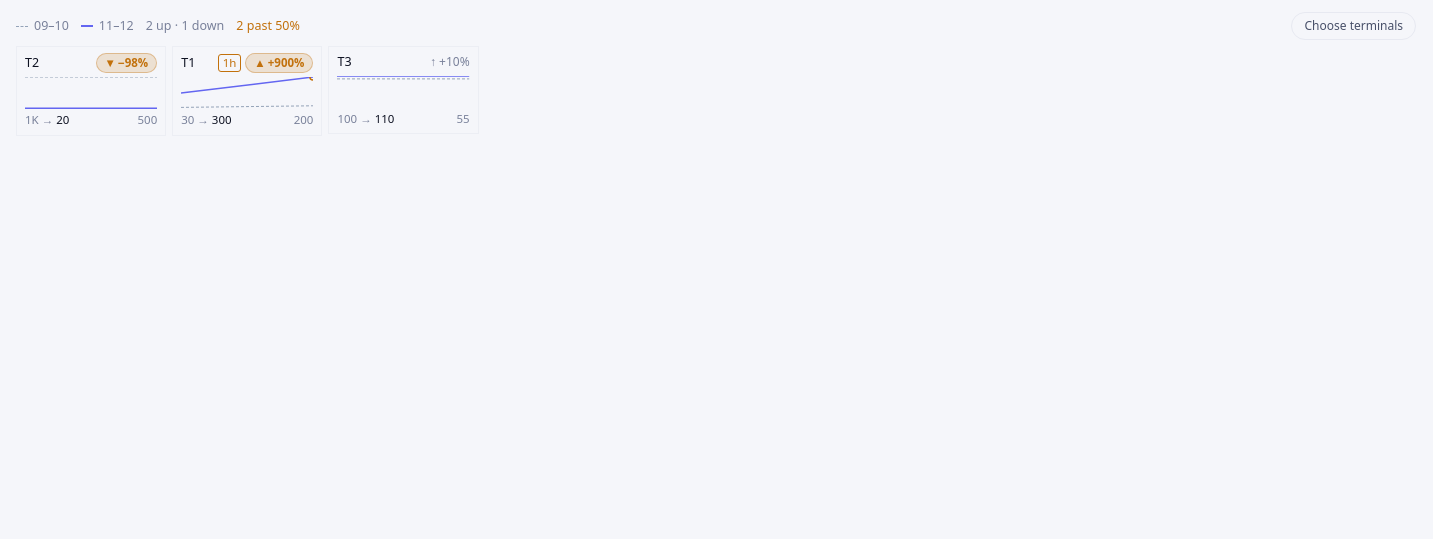
Test case: CompareGridView: maximising a panel › opens one panel over the whole card when its name is clicked
Click the button named "Maximise T1" at (247, 91), box [172,46,322,136]
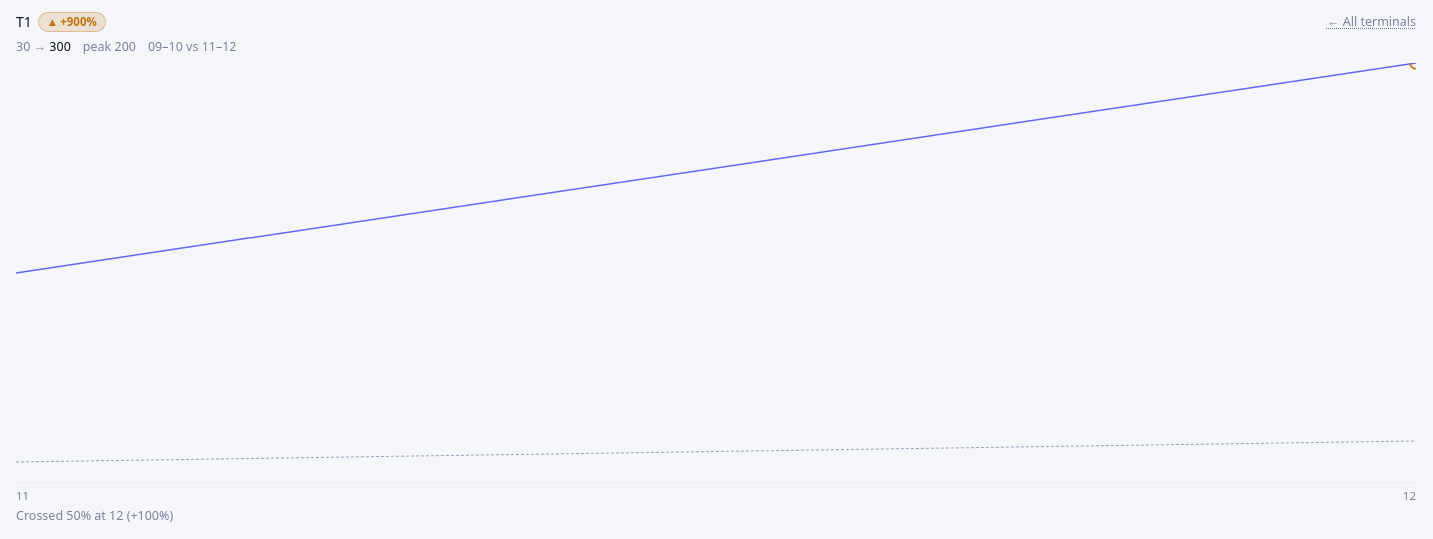
Expected: the text "Maximise T1" is gone
Expected: the button "← All terminals" is shown, [1327,13,1416,32]
